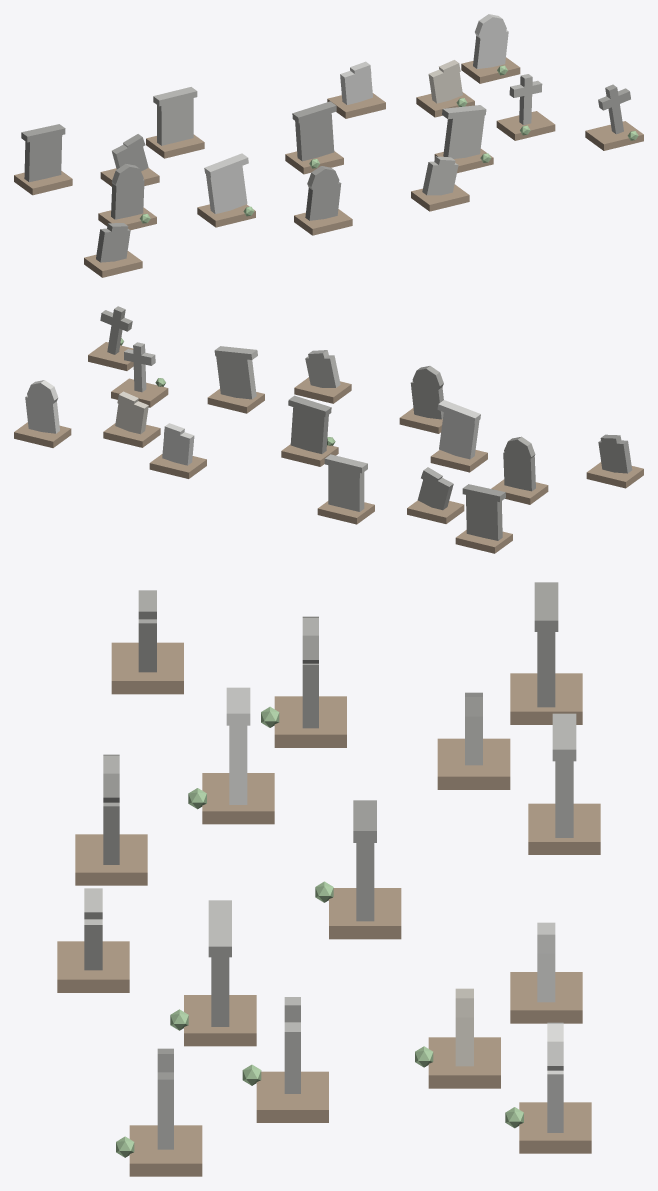
File: hrbitov_nahrobky.glb
3 views of the same model, one above another, from view 1: azimuth 30°, elevation 25°; view 2: azimuth 150°, elevation 25°; view 3: azimuth 270°, elevation 25° (orthographic). The views are drawn at different scales.
Visible parts, largest first — view 1: HrbitovNahrobky_mud2, HrbitovNahrobky_grey4, HrbitovNahrobky_grey3, HrbitovNahrobky_grey, HrbitovNahrobky_stone2, HrbitovNahrobky_green2; view 2: HrbitovNahrobky_mud2, HrbitovNahrobky_grey4, HrbitovNahrobky_grey3, HrbitovNahrobky_grey, HrbitovNahrobky_stone2; view 3: HrbitovNahrobky_mud2, HrbitovNahrobky_grey4, HrbitovNahrobky_grey3, HrbitovNahrobky_grey, HrbitovNahrobky_green2, HrbitovNahrobky_stone2.
Part boxes in pixels (x1,y1,x2,y2): HrbitovNahrobky_mud2: (14,57,643,277); HrbitovNahrobky_grey4: (21,84,630,262); HrbitovNahrobky_grey3: (153,74,542,195); HrbitovNahrobky_grey: (204,14,508,213); HrbitovNahrobky_stone2: (428,60,462,103); HrbitovNahrobky_green2: (139,65,638,223); HrbitovNahrobky_mud2: (14,342,643,553); HrbitovNahrobky_grey4: (100,306,632,540); HrbitovNahrobky_grey3: (124,342,367,511); HrbitovNahrobky_grey: (25,380,480,465); HrbitovNahrobky_stone2: (115,391,148,434); HrbitovNahrobky_mud2: (57,642,600,1176); HrbitovNahrobky_grey4: (103,582,558,1149); HrbitovNahrobky_grey3: (84,713,576,1093); HrbitovNahrobky_grey: (226,687,563,1132); HrbitovNahrobky_green2: (116,706,523,1157); HrbitovNahrobky_stone2: (455,988,473,1066).
Size of the model in its own units: 13.6 by 1.35 by 6.
